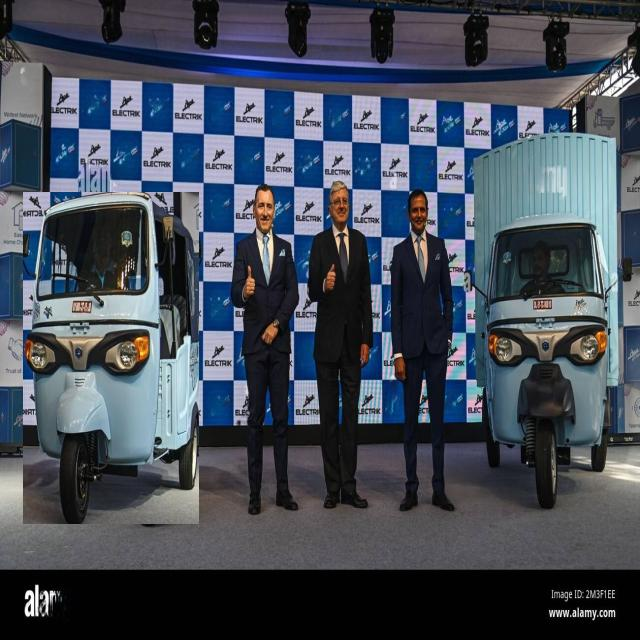autorickshaw: (24, 192, 199, 524), (475, 132, 618, 507)
